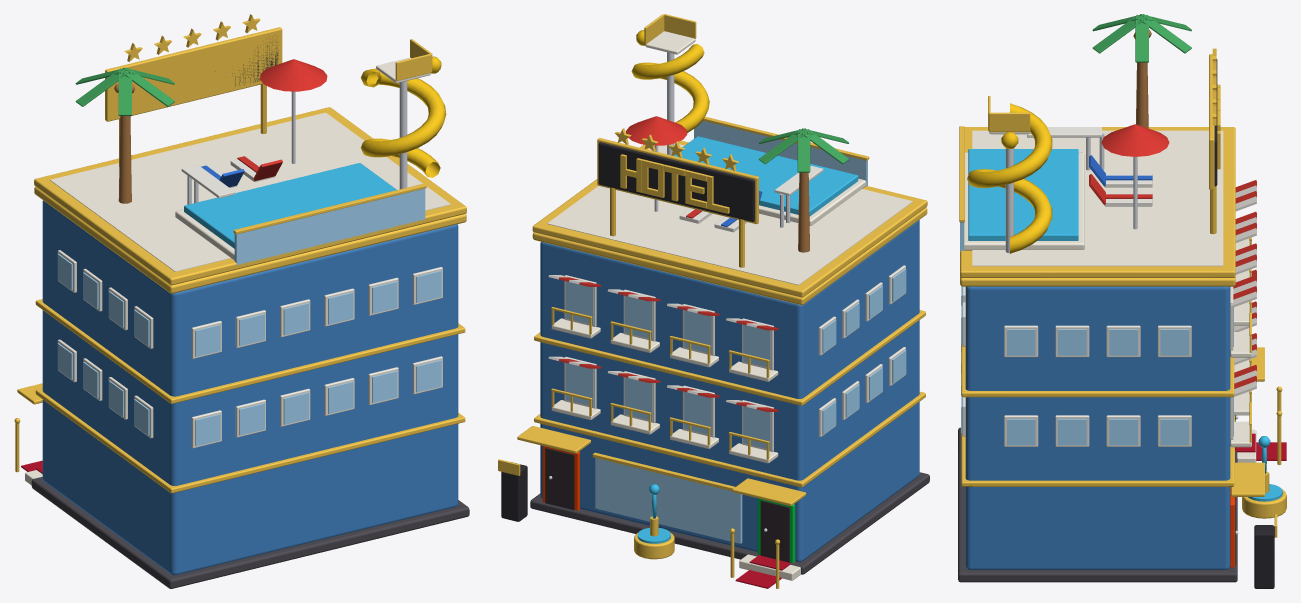
File: building_living_quarters_t3.glb
3 views of the same model, side by side, from view 1: azimuth 30°, elevation 25°; view 2: azimuth 150°, elevation 25°; view 3: azimuth 270°, elevation 25° (orthographic). The views are drawn at different scales.
Visible parts, largest first — view 1: Walls, Deck, Sign.Trim, Roof.Parapet, Pool.Water, Plinth, Pool.Edge, Roof.Slab, Slide, Cornice2, Cornice1, Parasol (+19 smaller); view 2: Walls, Deck, Lobby.Glass, Roof.Parapet, Sign.Panel, Pool.Water, Plinth, Roof.Slab, Cornice1, Cornice2, Pool.Edge, Slide (+25 smaller); view 3: Walls, Deck, Pool.Water, Roof.Parapet, Plinth, Slide, Roof.Slab, Cornice2, Cornice1, Pool.Coping, Parasol, Valet (+27 smaller).
Part boxes in pixels (x1,y1,x2,y2): Walls: [42, 200, 458, 575]; Deck: [50, 112, 450, 271]; Sign.Trim: [105, 27, 282, 121]; Roof.Parapet: [34, 107, 466, 285]; Pool.Water: [184, 163, 396, 248]; Plinth: [31, 477, 469, 588]; Pool.Edge: [234, 188, 425, 265]; Roof.Slab: [34, 186, 466, 293]; Slide: [360, 68, 446, 177]; Cornice2: [35, 299, 465, 403]; Cornice1: [35, 388, 465, 493]; Parasol: [260, 59, 327, 91]; Walls: [540, 220, 919, 561]; Deck: [547, 143, 912, 285]; Lobby.Glass: [595, 458, 742, 543]; Roof.Parapet: [532, 140, 927, 297]; Sign.Panel: [598, 142, 754, 221]; Pool.Water: [673, 136, 858, 216]; Plinth: [530, 472, 929, 574]; Roof.Slab: [532, 207, 927, 305]; Cornice1: [534, 391, 925, 487]; Cornice2: [534, 310, 925, 405]; Pool.Edge: [694, 121, 867, 186]; Slide: [631, 44, 709, 132]; Walls: [965, 286, 1230, 569]; Deck: [972, 130, 1223, 266]; Pool.Water: [968, 149, 1078, 240]; Roof.Parapet: [960, 127, 1235, 277]; Plinth: [958, 427, 1237, 582]; Slide: [967, 103, 1052, 253]; Roof.Slab: [960, 276, 1235, 286]; Cornice2: [961, 326, 1234, 397]; Cornice1: [961, 415, 1234, 486]; Pool.Coping: [964, 152, 1084, 250]; Parasol: [1101, 124, 1169, 156]; Valet: [1254, 525, 1274, 588].
Bounding box in the file's own units: 5.35 × 7.42 × 4.82.
